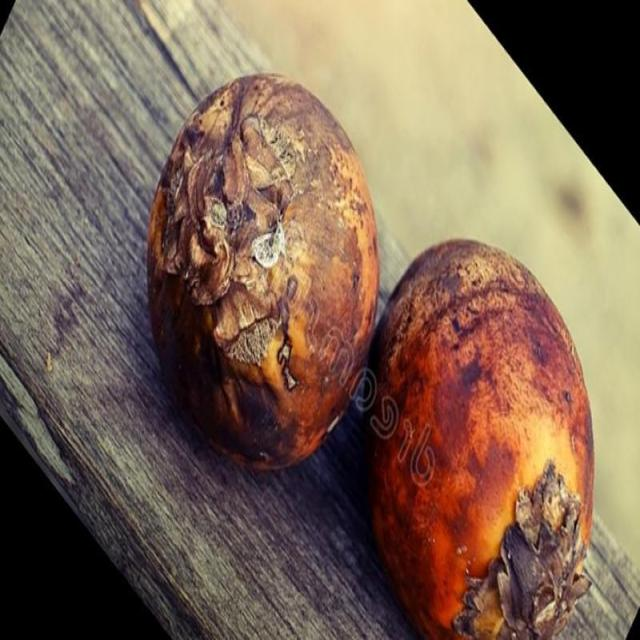damaged: (145, 74, 382, 473), (365, 239, 595, 639)
